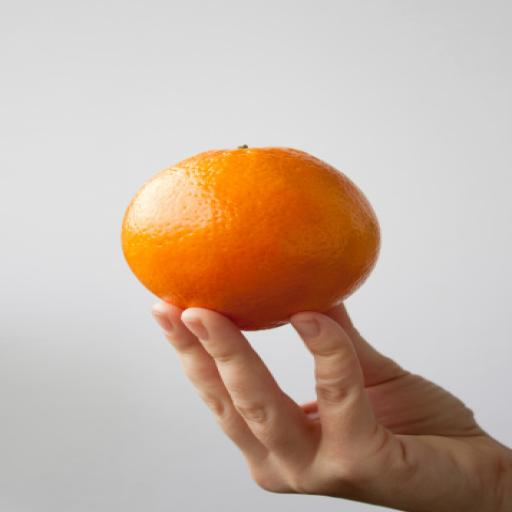orange: (122, 148, 380, 330)
